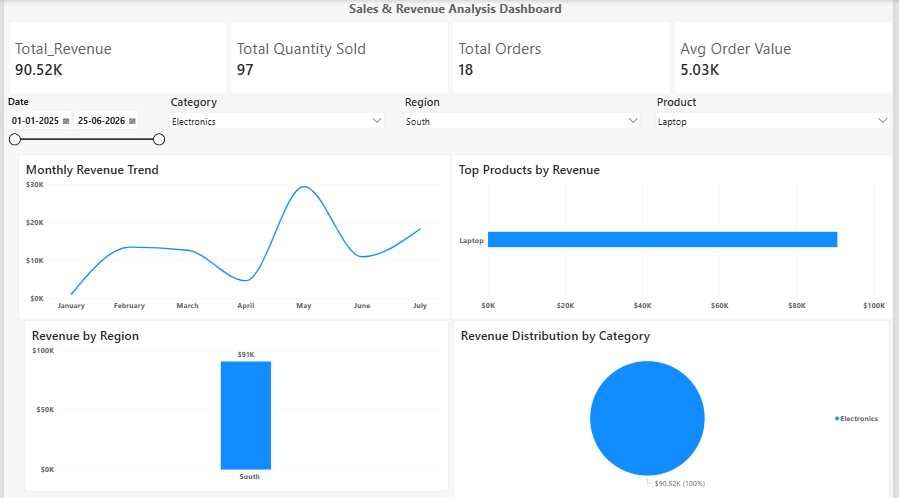

The page's visual inventory and layout, read from the dashboard file:
{"tool":"powerbi","page":{"name":"sales & revenue","canvas":[1920,1080],"ordinal":0},"visuals":[{"type":"cardVisual","fields":{"Data":["SalesData.Total_Revenue","SalesData.Total Quantity Sold","SalesData.Total Orders","SalesData.Avg Order Value"]},"box":[10.7,45.6,1909.3,158.2],"z":0},{"type":"lineChart","title":"Monthly Revenue Trend","fields":{"Category":["SalesData.Date.Variation.Date Hierarchy.Month","SalesData.Date.Variation.Date Hierarchy.Day"],"Y":["Sum(SalesData.Revenue)"]},"box":[29.5,332.5,935.9,359.3],"z":1000},{"type":"clusteredBarChart","title":"Top Products by Revenue","fields":{"Category":["SalesData.Product"],"Y":["Sum(SalesData.Revenue)"]},"box":[965.4,332.5,954.6,359.3],"z":2000},{"type":"pieChart","title":"Revenue Distribution by Category","fields":{"Category":["SalesData.Category"],"Y":["Sum(SalesData.Revenue)"]},"box":[970.7,691.8,943.9,388.8],"z":3000},{"type":"columnChart","title":"Revenue by Region","fields":{"Category":["SalesData.Region"],"Y":["Sum(SalesData.Revenue)"]},"box":[42.9,691.8,917.1,370.1],"z":4000},{"type":"textbox","box":[29.5,0,1890.5,88.5],"z":5000},{"type":"slicer","fields":{"Values":["SalesData.Date"]},"box":[0,203.8,351.3,177],"z":5001},{"type":"slicer","fields":{"Values":["SalesData.Category"]},"box":[351.3,203.8,474.6,144.8],"z":5002},{"type":"slicer","fields":{"Values":["SalesData.Region"]},"box":[858.1,203.8,522.9,128.7],"z":5003},{"type":"slicer","fields":{"Values":["SalesData.Product"]},"box":[1402.5,203.8,517.5,123.4],"z":5004}]}

Visuals, with their boxes in screenshot pixels (x1, y1, x2, y2), scaled from the page's 1920x1080 canvas onto the 900x499 screenshot:
cardVisual - SalesData.Total_Revenue x SalesData.Total Quantity Sold: region(5, 21, 899, 94)
"Monthly Revenue Trend" lineChart: region(14, 154, 453, 320)
"Top Products by Revenue" clusteredBarChart: region(453, 154, 899, 320)
"Revenue Distribution by Category" pieChart: region(455, 320, 897, 498)
"Revenue by Region" columnChart: region(20, 320, 450, 491)
textbox: region(14, 0, 899, 41)
slicer - SalesData.Date: region(0, 94, 165, 176)
slicer - SalesData.Category: region(165, 94, 387, 161)
slicer - SalesData.Region: region(402, 94, 647, 154)
slicer - SalesData.Product: region(657, 94, 899, 151)
